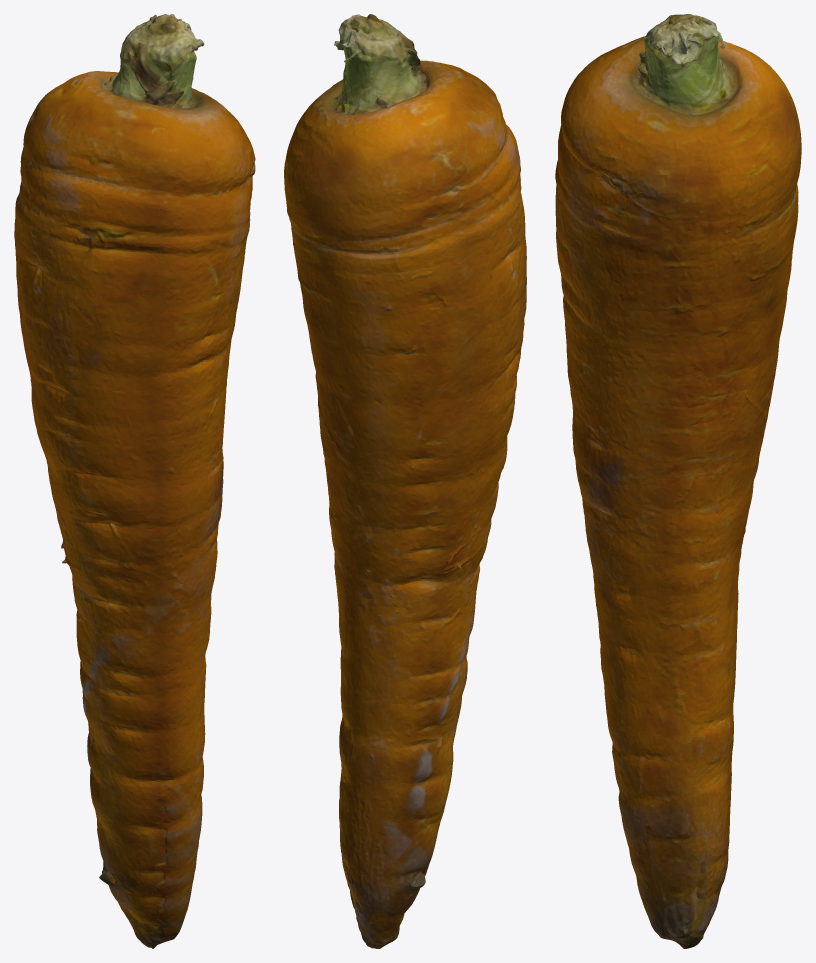
File: Aligned.obj
The picture shows the model from 3 angles, left to right: view 1: azimuth 30°, elevation 25°; view 2: azimuth 150°, elevation 25°; view 3: azimuth 270°, elevation 25°; orthographic projection.
Parts seen in each view (by area): view 1: carrot_000; view 2: carrot_000; view 3: carrot_000.
Boxes of the visible parts, left/top/right/bottom form: carrot_000: left=14, top=14, right=255, bottom=948; carrot_000: left=284, top=14, right=526, bottom=948; carrot_000: left=555, top=14, right=801, bottom=948.
Size of the model in its own units: 45.61 by 194 by 45.98.
